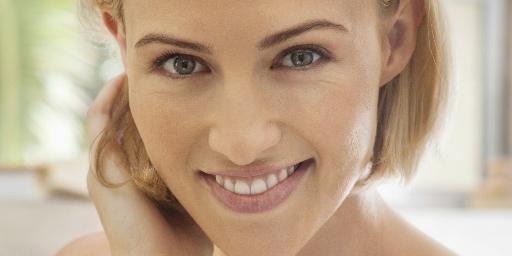left_eye: (271, 48, 334, 71)
left_lip_corner: (297, 155, 322, 169)
right_eye: (151, 55, 215, 79)
right_lip_corner: (190, 167, 215, 180)
